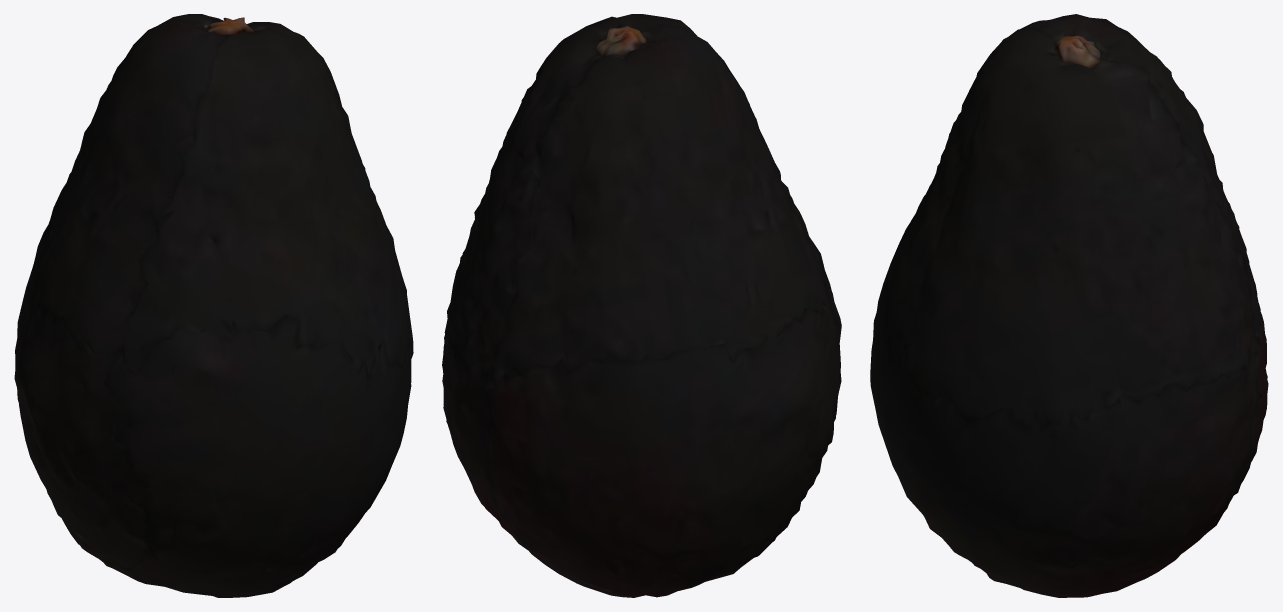
The model's file is food_avocado_01.glb.
3 renders of one model, left to right at view 1: azimuth 30°, elevation 25°; view 2: azimuth 150°, elevation 25°; view 3: azimuth 270°, elevation 25°, orthographic. The views are drawn at different scales.
Parts seen in each view (by area): view 1: food_avocado_01; view 2: food_avocado_01; view 3: food_avocado_01.
Boxes of the visible parts, <box> form: food_avocado_01: <box>14,14,413,597</box>; food_avocado_01: <box>442,14,841,597</box>; food_avocado_01: <box>870,14,1268,597</box>.
Bounding box in the file's own units: 0.0952 × 0.1432 × 0.0946.
Materials: 1 (1 with a texture image).
